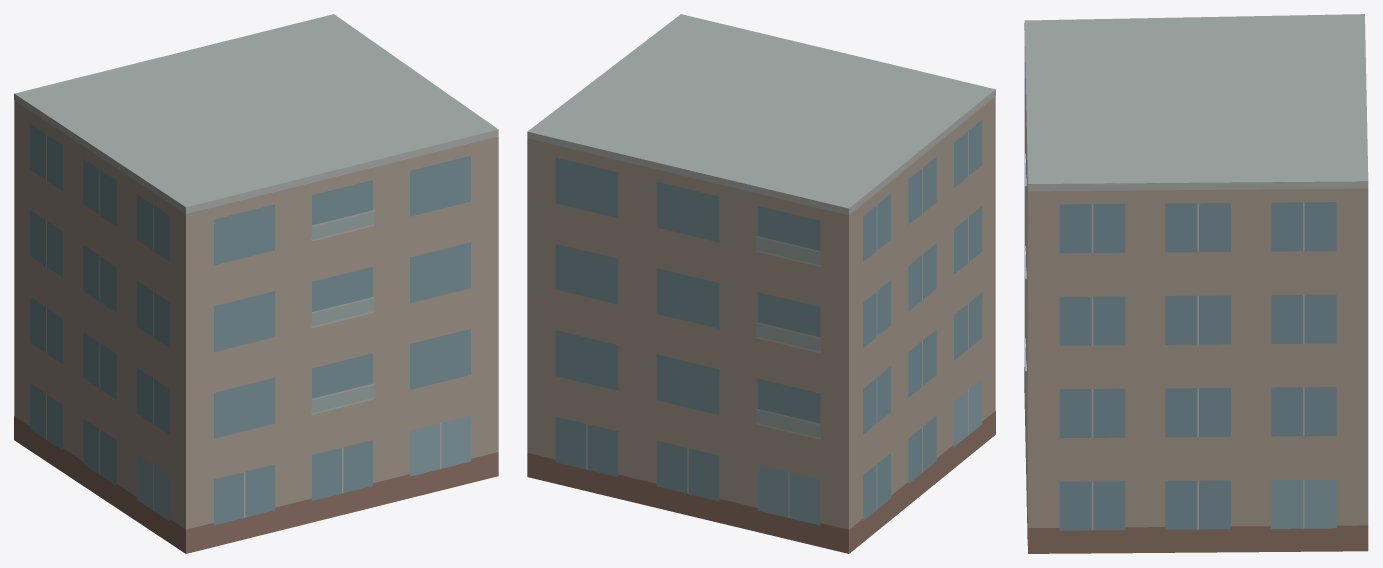
The model's file is survey-upis-32678402.glb.
3 views of the same model, side by side, from view 1: azimuth 30°, elevation 25°; view 2: azimuth 150°, elevation 25°; view 3: azimuth 270°, elevation 25° (orthographic). The views are drawn at different scales.
Visible parts, largest first — view 1: survey-upis-32678402.tmp; view 2: survey-upis-32678402.tmp; view 3: survey-upis-32678402.tmp.
Part boxes in pixels (x1,y1,x2,y2): survey-upis-32678402.tmp: [14, 14, 498, 553]; survey-upis-32678402.tmp: [527, 14, 995, 553]; survey-upis-32678402.tmp: [1024, 14, 1368, 553].
Size of the model in its own units: 12.24 by 12.4 by 10.46.
